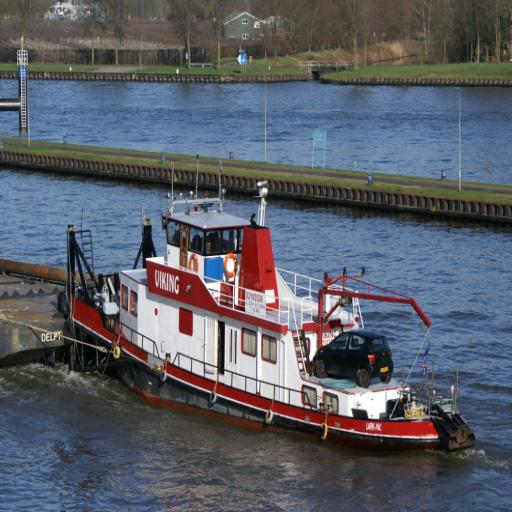tugboat: (57, 177, 480, 465)
